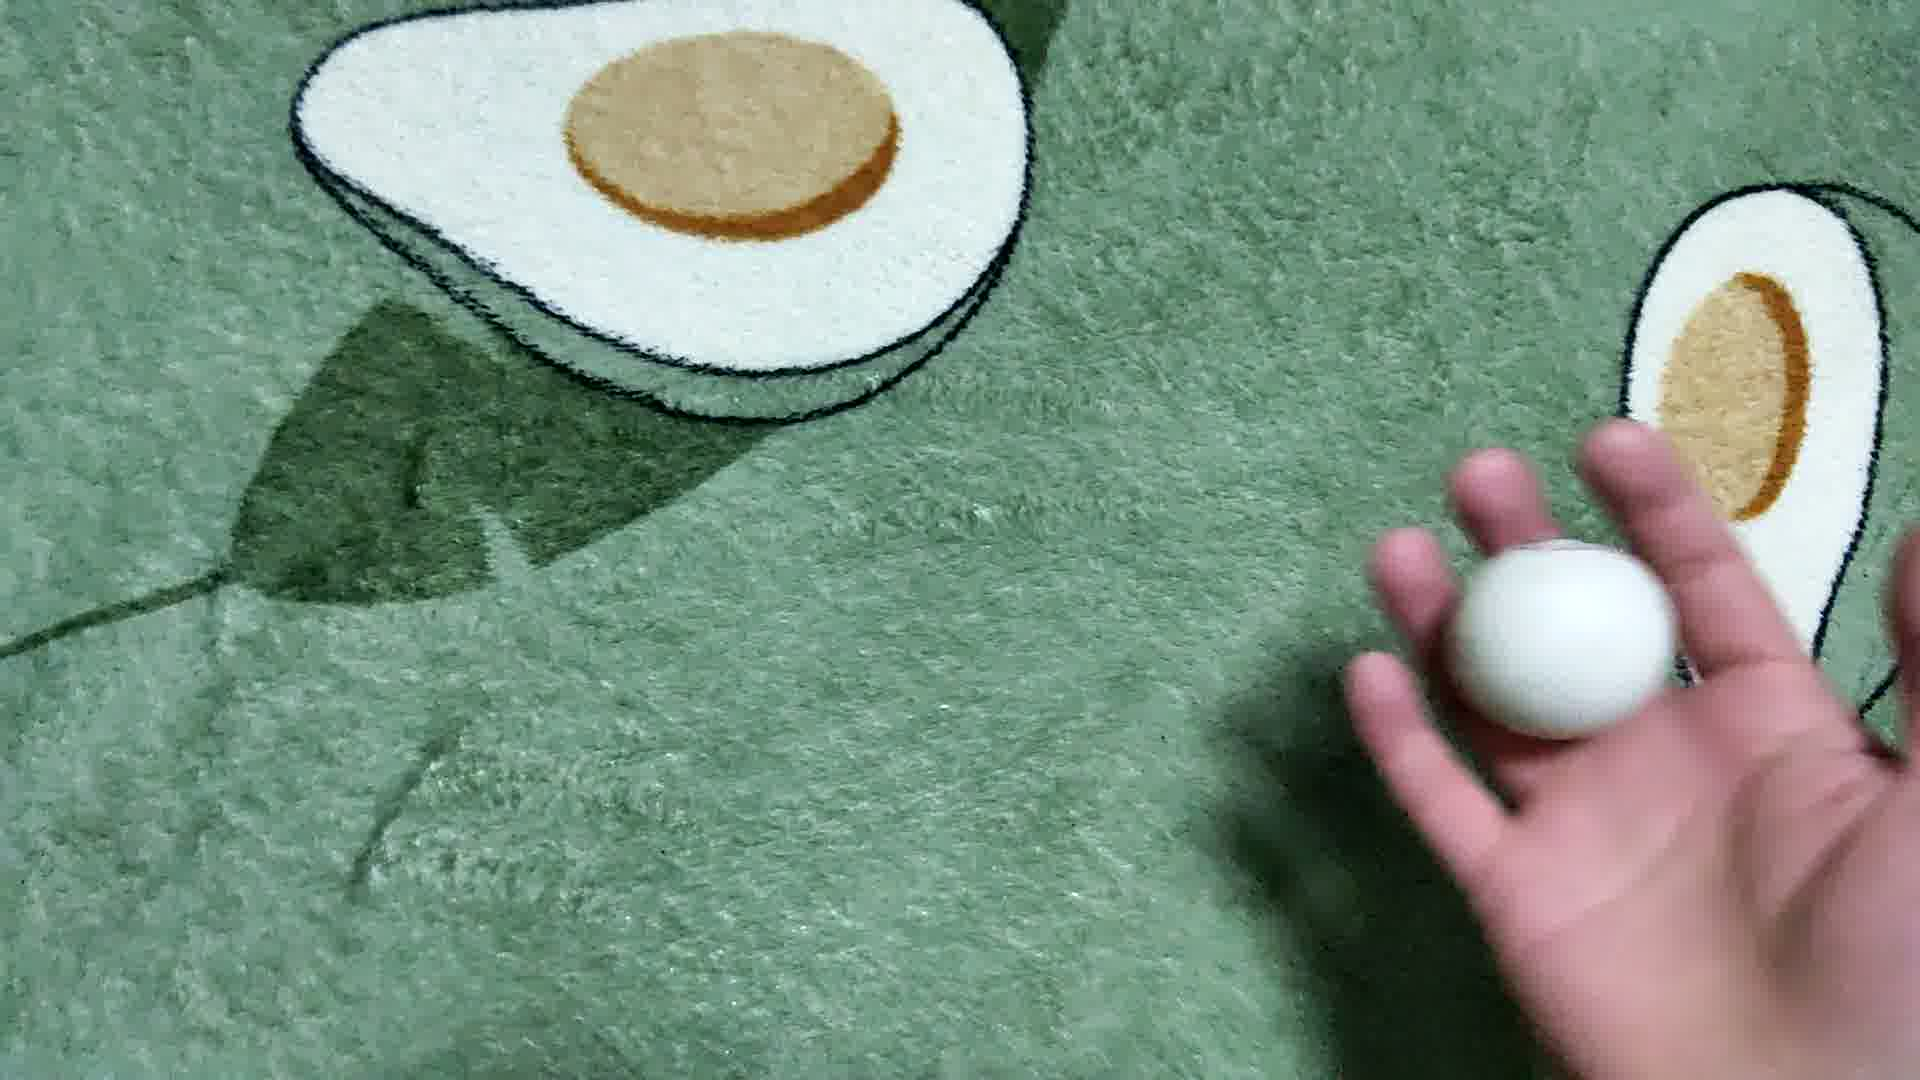Ball: (1449, 535, 1683, 740)
